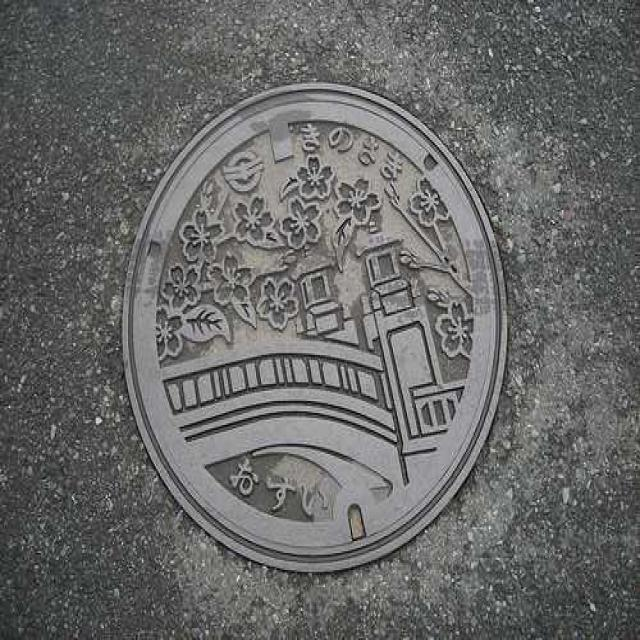manhole: (124, 85, 506, 572)
